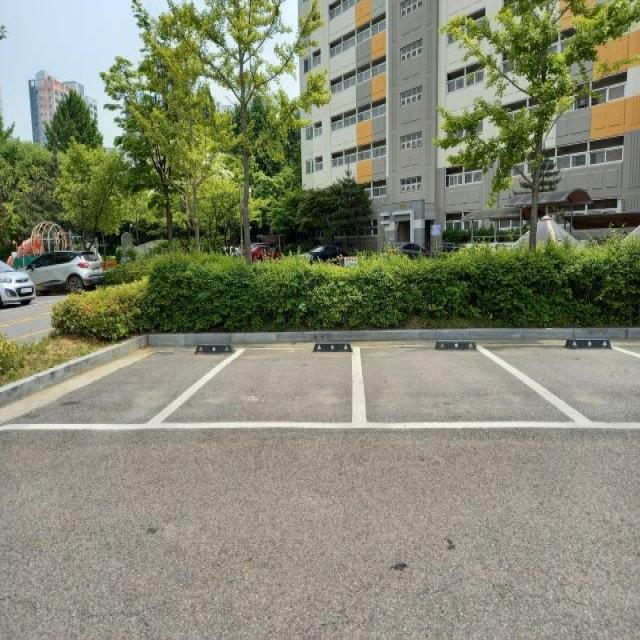empty: (354, 333, 583, 431), (9, 337, 247, 427), (154, 340, 360, 434), (478, 335, 640, 430)
